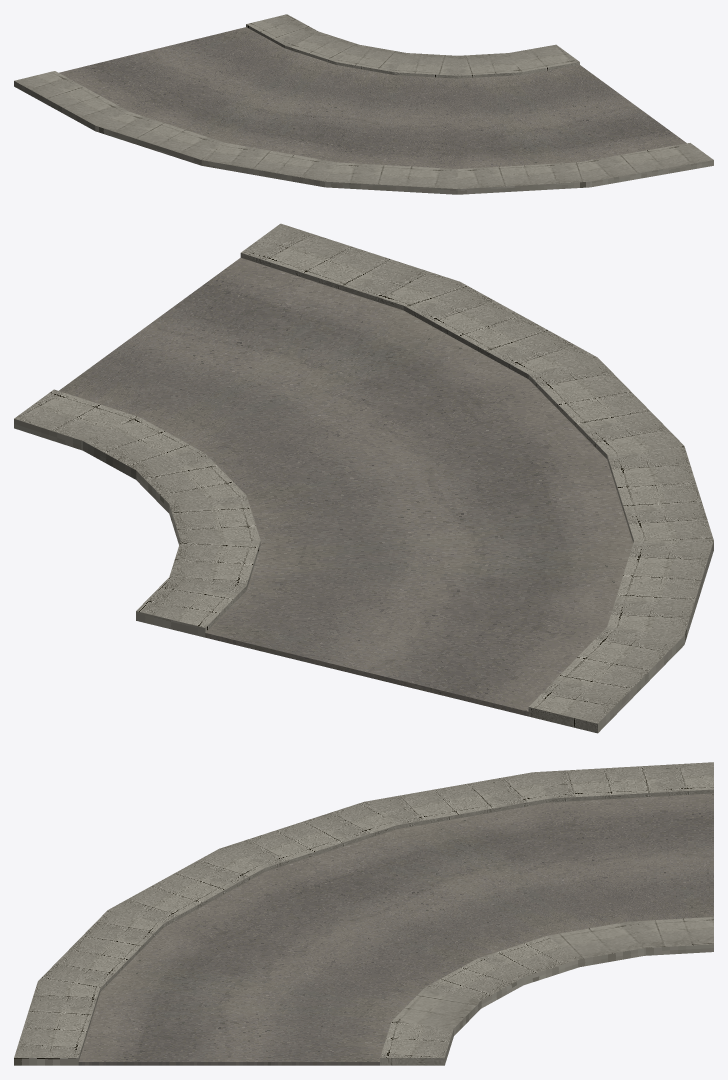
File: road_3_long_corner.glb
The picture shows the model from 3 angles, top to bottom: view 1: azimuth 30°, elevation 25°; view 2: azimuth 150°, elevation 25°; view 3: azimuth 270°, elevation 25°; orthographic projection. The views are drawn at different scales.
Parts seen in each view (by area): view 1: road_3_long_corner; view 2: road_3_long_corner; view 3: road_3_long_corner.
Boxes of the visible parts, bbox=[...] form: road_3_long_corner: bbox=[14, 14, 713, 194]; road_3_long_corner: bbox=[14, 223, 713, 733]; road_3_long_corner: bbox=[14, 762, 713, 1065].
Size of the model in its own units: 26 by 0.32 by 26.
2 materials, 2 textured.
